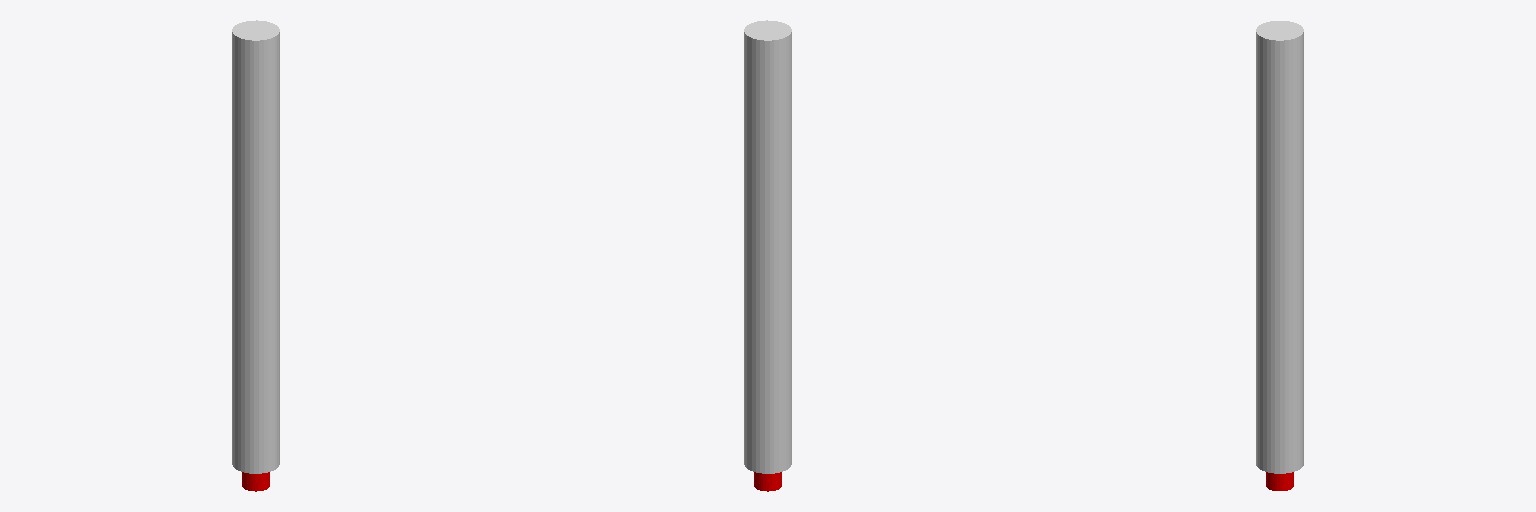
URDF robot description (starship):
<?xml version="1.0"?>
<robot name="starship">
  <!-- Main Body: silinder dengan diameter 0.1 m (radius=0.05 m) dan tinggi 1.0 m -->
  <link name="body">
    <inertial>
      <!-- Asumsi massa 50 kg, inersia untuk silinder (perhitungan kasar) -->
      <origin xyz="0 0 0" />
      <mass value="50"/>
      <inertia ixx="4.20" ixy="0" ixz="0" iyy="4.20" iyz="0" izz="0.0625"/>
    </inertial>
    <visual>
      <origin xyz="0 0 0" rpy="0 0 0"/>
      <geometry>
         <cylinder radius="0.05" length="1.0"/>
      </geometry>
      <material name="white">
         <color rgba="0.9 0.9 0.9 1"/>
      </material>
    </visual>
    <collision>
      <origin xyz="0 0 0" rpy="0 0 0"/>
      <geometry>
         <cylinder radius="0.05" length="1.0"/>
      </geometry>
    </collision>
  </link>

  <!-- Gimbal untuk thruster utama (rotasi terhadap sumbu Y) -->
  <link name="gimbal_y_frame">
    <inertial>
      <origin xyz="0 0 0"/>
      <mass value="0.001"/>
      <inertia ixx="0.0001" ixy="0" ixz="0" iyy="0.0001" iyz="0" izz="0.0001"/>
    </inertial>
  </link>
  <joint name="gimbal_y" type="revolute">
    <!-- Pasang di bagian bawah body (z = -0.5) -->
    <parent link="body"/>
    <child link="gimbal_y_frame"/>
    <origin xyz="0 0 -0.5" rpy="0 0 0"/>
    <axis xyz="0 1 0"/>
    <limit lower="-0.5" upper="0.5" effort="10" velocity="1.0"/>
  </joint>

  <!-- Gimbal kedua untuk thruster utama (rotasi terhadap sumbu X) -->
  <joint name="gimbal_x" type="revolute">
    <parent link="gimbal_y_frame"/>
    <child link="thruster"/>
    <origin xyz="0 0 0" rpy="0 0 0"/>
    <axis xyz="1 0 0"/>
    <limit lower="-0.5" upper="0.5" effort="10" velocity="1.0"/>
  </joint>

  <!-- Thruster Utama: berupa silinder kecil dengan panjang 5 cm (radius=0.03 m) -->
  <link name="thruster">
    <inertial>
      <!-- Pusat massa berada di tengah, sehingga origin diatur ke (0, 0, -0.025) -->
      <origin xyz="0 0 -0.025"/>
      <mass value="5"/>
      <inertia ixx="0.00217" ixy="0" ixz="0" iyy="0.00217" iyz="0" izz="0.00225"/>
    </inertial>
    <visual>
      <origin xyz="0 0 -0.025" rpy="0 0 0"/>
      <geometry>
        <cylinder radius="0.03" length="0.05"/>
      </geometry>
      <material name="red">
        <color rgba="1 0 0 1"/>
      </material>
    </visual>
    <collision>
      <origin xyz="0 0 -0.025" rpy="0 0 0"/>
      <geometry>
        <cylinder radius="0.03" length="0.05"/>
      </geometry>
    </collision>
  </link>

</robot>

--- Facts derived from the render (not from the file) ---
3 views of the same robot in one strip: view 1: azimuth 30°, elevation 25°; view 2: azimuth 150°, elevation 25°; view 3: azimuth 270°, elevation 25° (orthographic).
Robot: starship — 3 links, 2 joints (2 revolute); root link body; default pose: all joints at 0.
Links seen in each view (by area): view 1: body; view 2: body; view 3: body.
Boxes of the visible links, bbox=[...] form: body: bbox=[232, 20, 279, 473]; body: bbox=[744, 20, 791, 473]; body: bbox=[1256, 21, 1303, 473].
Size in the robot's own frame: 0.1 by 0.1 by 1.05 metres.
Geometry: primitives only (box / cylinder / sphere), no mesh files.